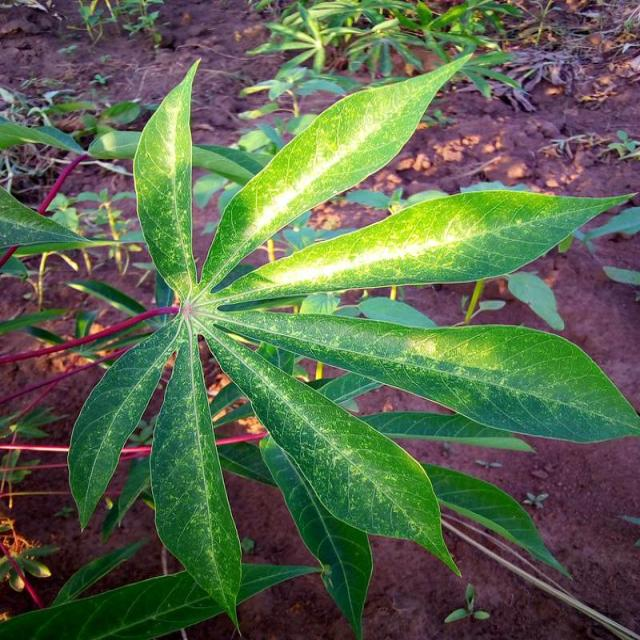cassava leaf: (62, 48, 638, 636), (197, 48, 475, 293), (209, 308, 639, 445), (207, 187, 636, 310), (148, 331, 243, 634), (131, 55, 202, 298)
